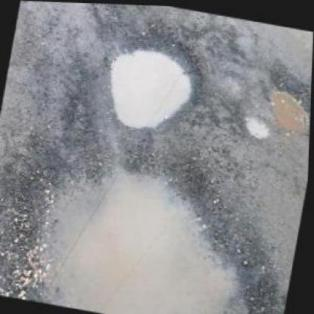Hueco: (14, 125, 295, 313), (94, 24, 208, 138), (258, 67, 311, 138), (243, 109, 274, 140)
